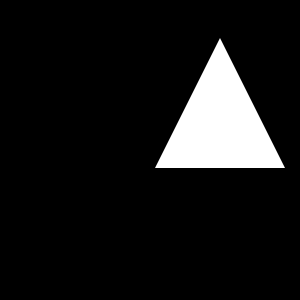triangle: (155, 38, 285, 168)
